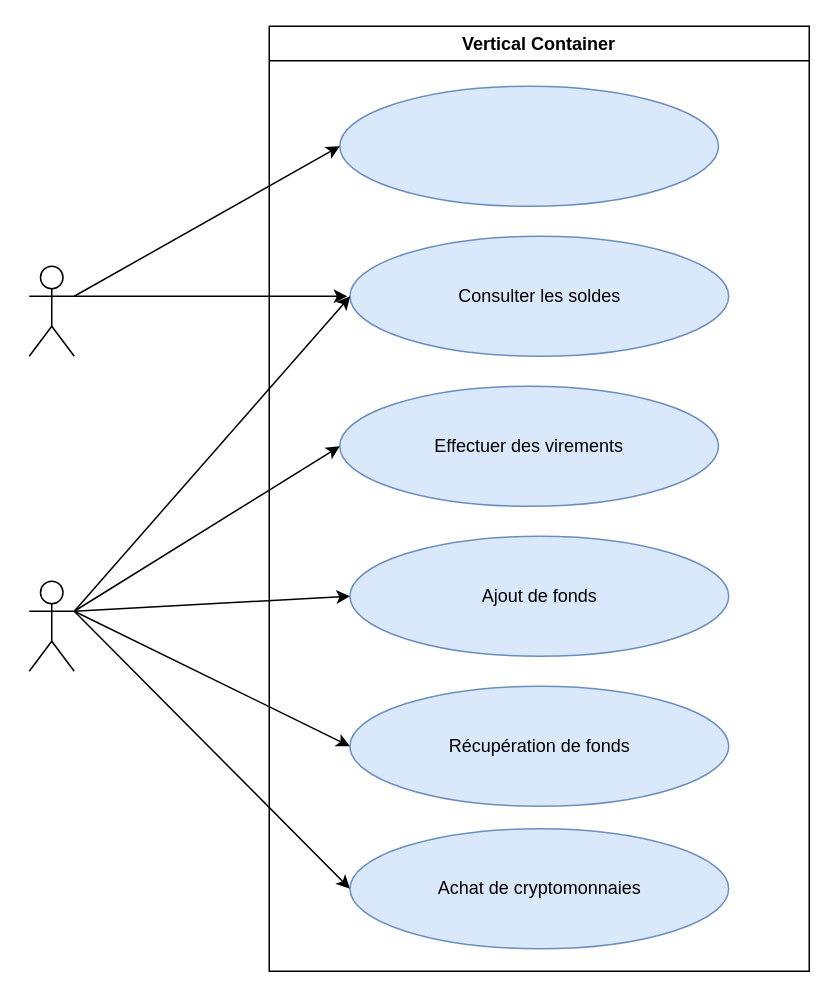
The diagram is 836 pixels wide and 998 high, and some of its shapes have lost their labels. The box of each missing label's shape, as (x1, y1, x2, y2) in pixels:
Admin: (28, 265, 74, 356)
Client: (28, 580, 74, 671)
Paramétrage: (338, 85, 718, 206)
